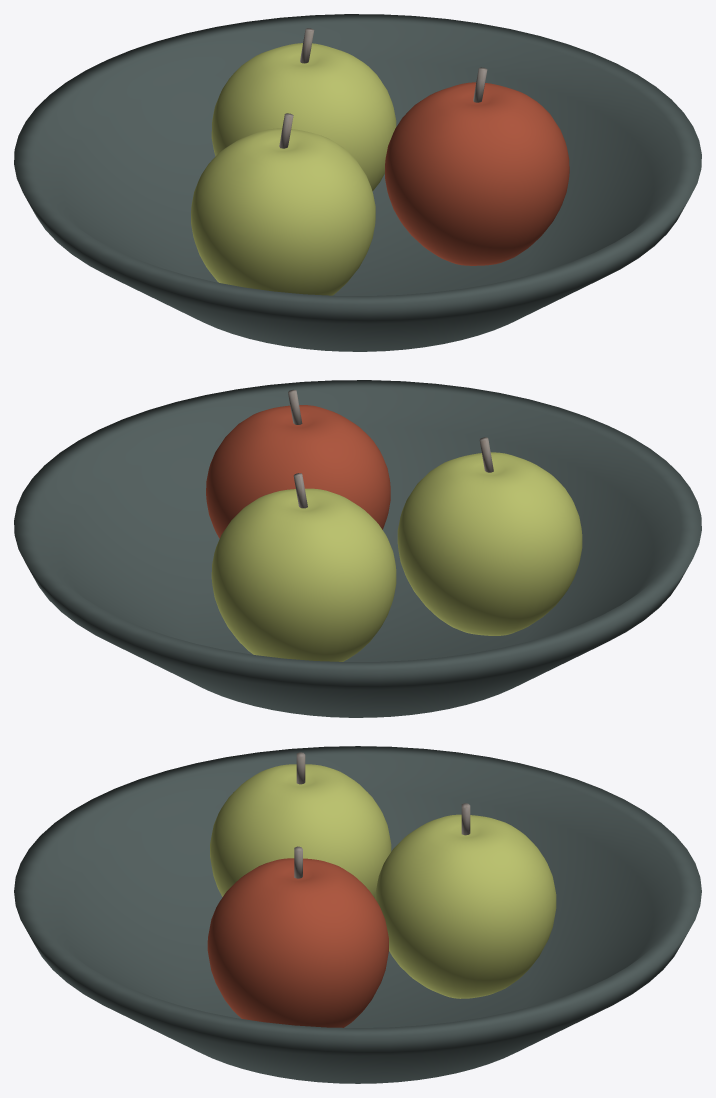
Rendered from modern.fruit_bowl.gltf.
3 renders of one model, top to bottom at view 1: azimuth 30°, elevation 25°; view 2: azimuth 150°, elevation 25°; view 3: azimuth 270°, elevation 25°, orthographic.
Visible parts, largest first — view 1: modern.fruit_bowl.stoneware; view 2: modern.fruit_bowl.stoneware; view 3: modern.fruit_bowl.stoneware.
Part boxes in pixels (x1,y1,x2,y2): modern.fruit_bowl.stoneware: (14,14,701,351); modern.fruit_bowl.stoneware: (14,380,701,717); modern.fruit_bowl.stoneware: (14,746,701,1083).
Size of the model in its own units: 0.3 by 0.0983 by 0.3.
4 materials, 1 textured.
